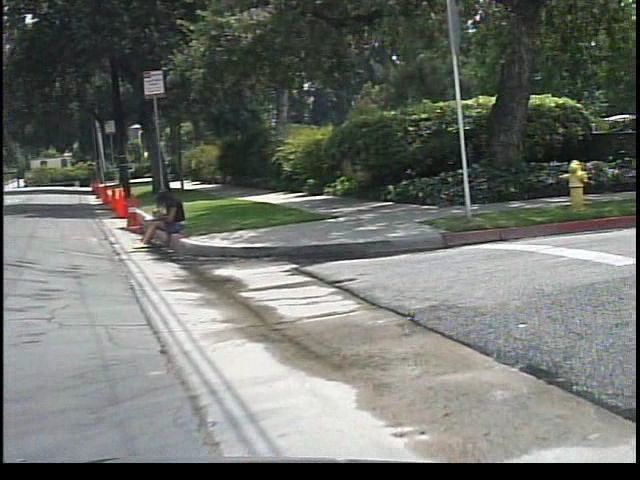person: (139, 188, 198, 250)
